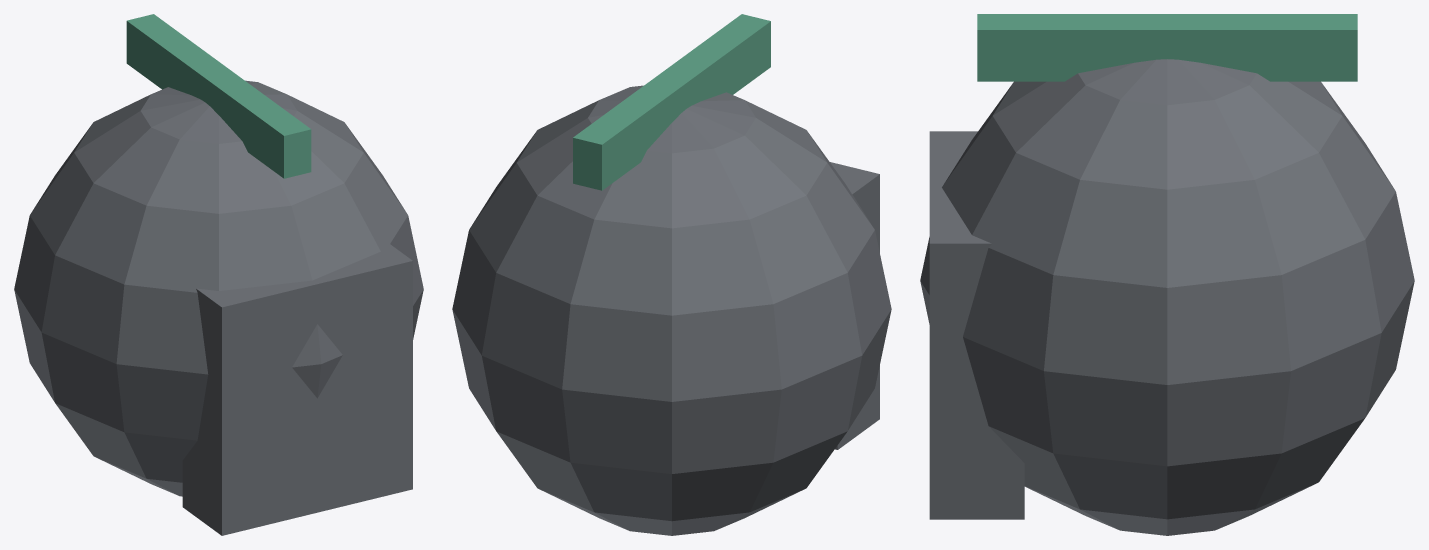
The model's file is PlateHelm.fbx.
3 renders of one model, left to right at view 1: azimuth 30°, elevation 25°; view 2: azimuth 150°, elevation 25°; view 3: azimuth 270°, elevation 25°, orthographic. The views are drawn at different scales.
Parts seen in each view (by area): view 1: PlateHelm; view 2: PlateHelm; view 3: PlateHelm.
Boxes of the visible parts, x1=… form: PlateHelm: x1=14, y1=14, x2=423, y2=535; PlateHelm: x1=452, y1=14, x2=891, y2=535; PlateHelm: x1=920, y1=14, x2=1414, y2=535.
Size of the model in its own units: 26 by 28.52 by 26.
Materials: 2 (2 with a texture image).
